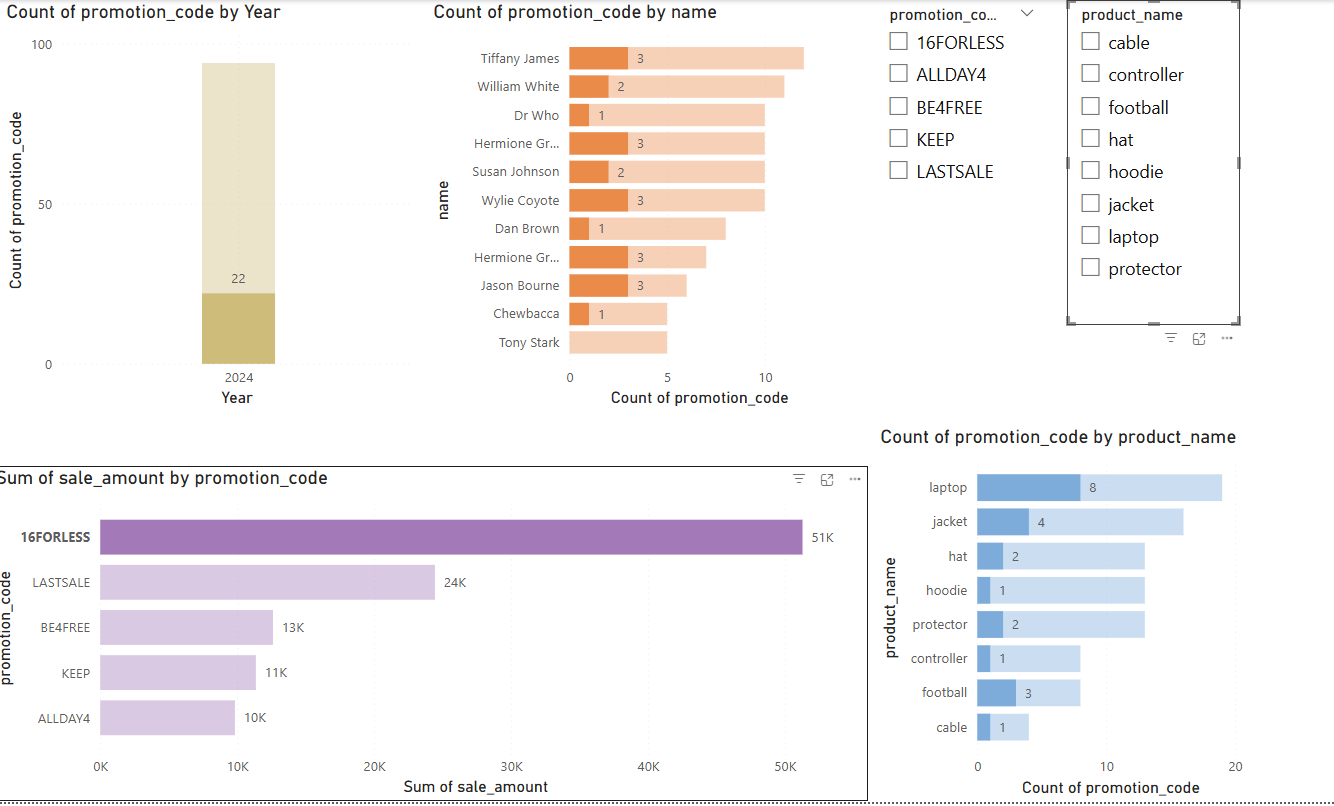

What the dashboard file says about the page in this screenshot:
{"tool":"powerbi","page":{"name":"P6 and Promotion Codes","canvas":[1280,720],"ordinal":0},"visuals":[{"type":"columnChart","fields":{"Category":["sale.Year_dt.Variation.Date Hierarchy.Year","sale.Quarter_dt.Variation.Date Hierarchy.Quarter","sale.month_name_dt.Variation.Date Hierarchy.Month","sale.month_name_dt.Variation.Date Hierarchy.Day"],"Y":["CountNonNull(sale.promotion_code)"]},"box":[9.7,0,372.5,369.6],"z":0},{"type":"clusteredBarChart","fields":{"Category":["sale.promotion_code"],"Y":["Sum(sale.sale_amount)"]},"box":[0,418.4,788.3,301.1],"z":1000},{"type":"clusteredBarChart","fields":{"Category":["customer.name"],"Y":["CountNonNull(sale.promotion_code)"]},"box":[393,0,373,370],"z":2000},{"type":"clusteredBarChart","fields":{"Category":["product.product_name"],"Y":["CountNonNull(sale.promotion_code)"]},"box":[794.7,381.3,344.3,338.5],"z":3000},{"type":"slicer","fields":{"Values":["sale.promotion_code"]},"box":[794.7,0,155.6,176],"z":4000},{"type":"slicer","fields":{"Values":["product.product_name"]},"box":[966.5,0,155.6,292.1],"z":5000}]}

Visuals, with their boxes on the page's 1280x720 design canvas (x1, y1, x2, y2). These are canvas units, not pixel positions in the 1334x806 screenshot, which may show the page scaled, cropped or inside an application window:
columnChart - sale.Year_dt.Variation.Date Hierarchy.Year x sale.Quarter_dt.Variation.Date Hierarchy.Quarter: <bbox>10, 0, 382, 370</bbox>
clusteredBarChart - sale.promotion_code x Sum(sale.sale_amount): <bbox>0, 418, 788, 720</bbox>
clusteredBarChart - customer.name x CountNonNull(sale.promotion_code): <bbox>393, 0, 766, 370</bbox>
clusteredBarChart - product.product_name x CountNonNull(sale.promotion_code): <bbox>795, 381, 1139, 720</bbox>
slicer - sale.promotion_code: <bbox>795, 0, 950, 176</bbox>
slicer - product.product_name: <bbox>966, 0, 1122, 292</bbox>
